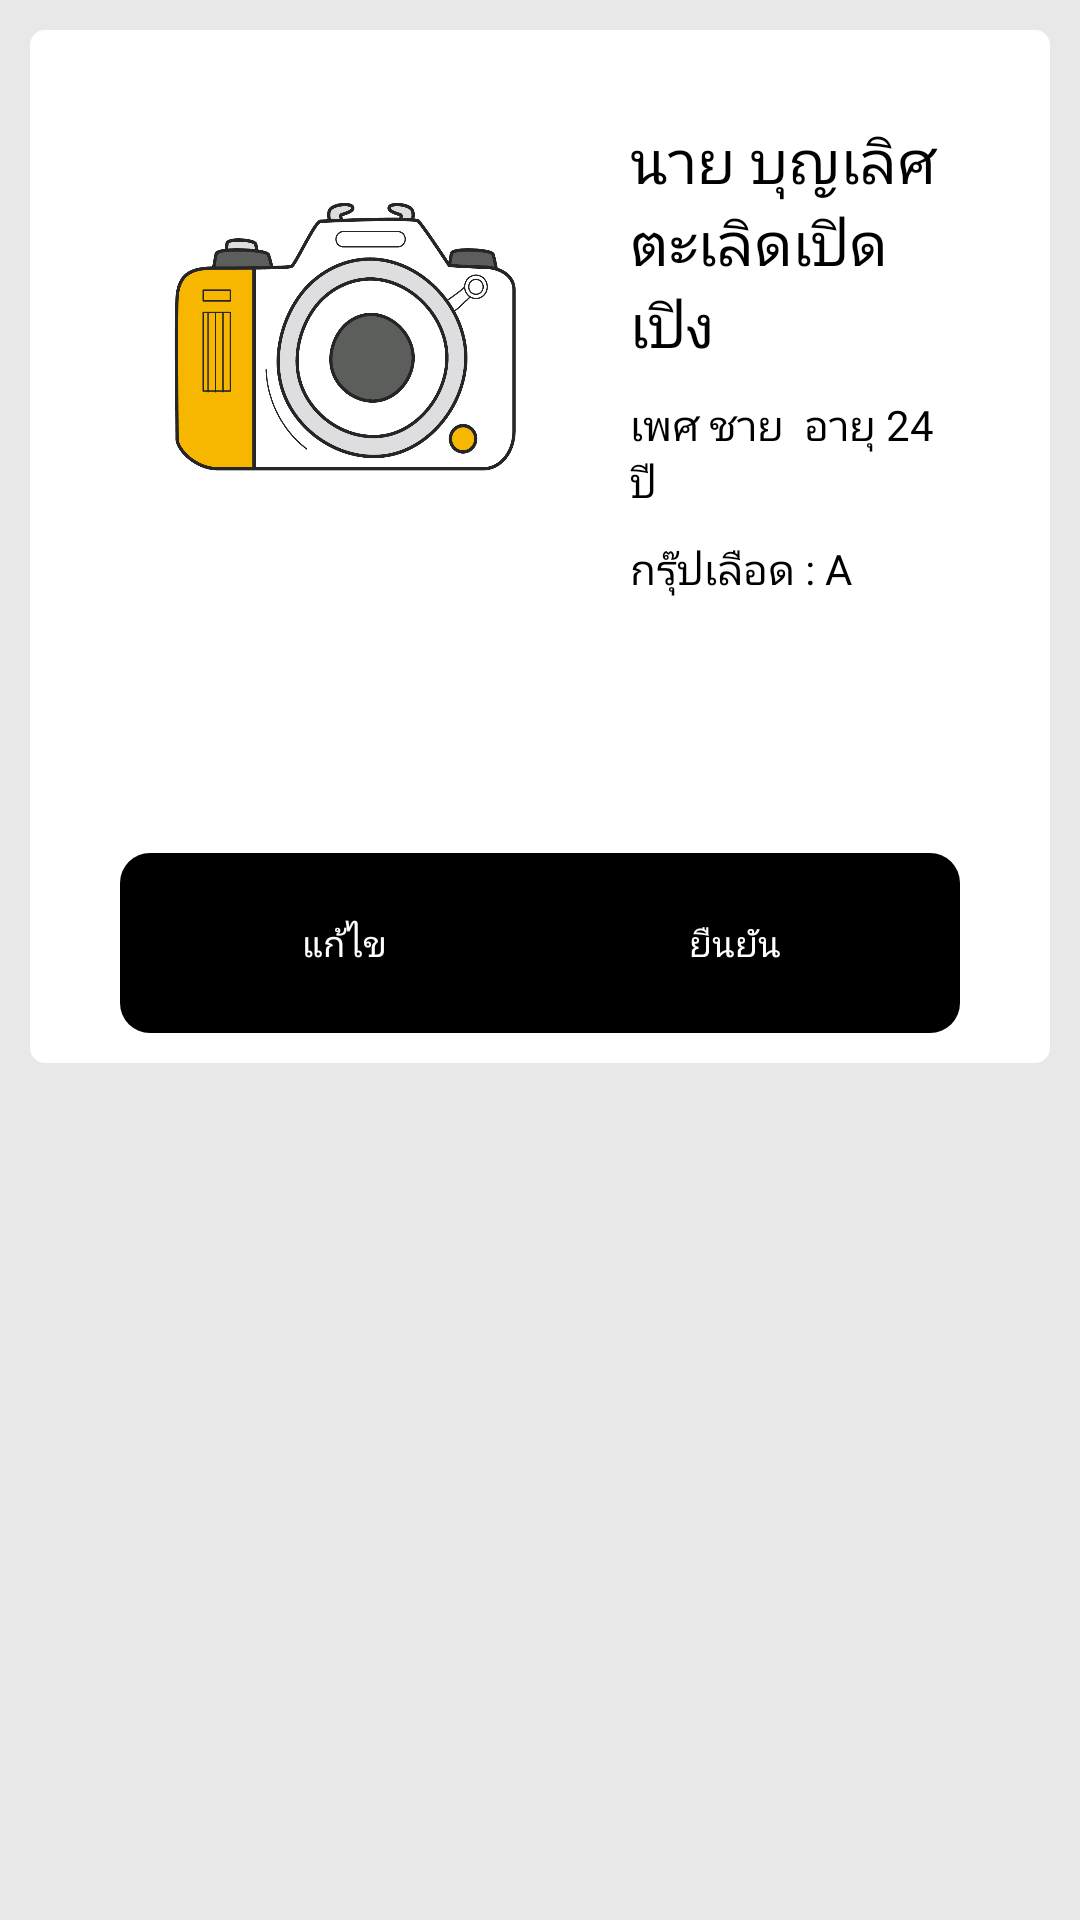

Icon bounding boxes for this 1080px x 1920px phone screenshot, format (x1, y1, x2, y2):
camera: (175, 203, 516, 471)
